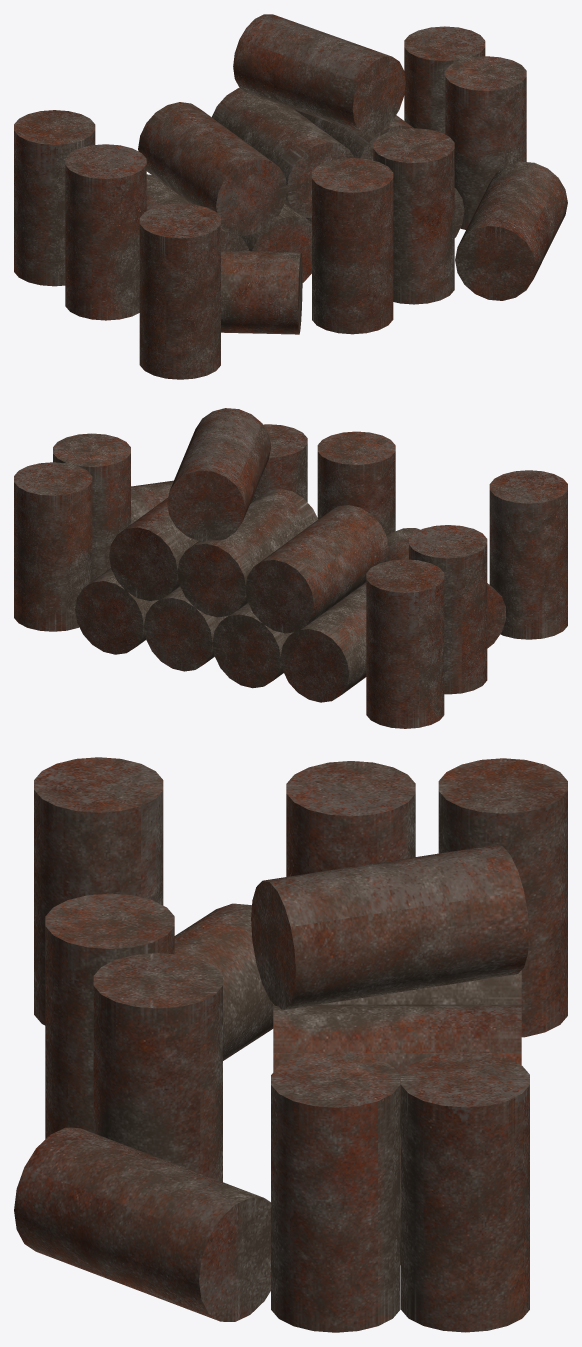
The model's file is Bidones1.obj.
The picture shows the model from 3 angles, top to bottom: view 1: azimuth 30°, elevation 25°; view 2: azimuth 150°, elevation 25°; view 3: azimuth 270°, elevation 25°; orthographic projection. The views are drawn at different scales.
Visible parts, largest first — view 1: bidon035, bidon04, bidon00, bidon05, bidon11, bidon01, bidon02, bidon034, bidon06, bidon08, bidon12, bidon03 (+3 smaller); view 2: bidon06, bidon03, bidon035, bidon11, bidon00, bidon05, bidon08, bidon17, bidon04, bidon034, bidon07, bidon14 (+5 smaller); view 3: bidon00, bidon034, bidon03, bidon02, bidon01, bidon06, bidon035, bidon04, bidon07, bidon05, bidon12, bidon08.
Part boxes in pixels (<box>): bidon035: <box>139,203,220,379</box>; bidon04: <box>312,158,393,334</box>; bidon00: <box>233,14,405,134</box>; bidon05: <box>65,144,146,320</box>; bidon11: <box>138,102,287,235</box>; bidon01: <box>373,128,454,304</box>; bidon02: <box>455,161,567,300</box>; bidon034: <box>445,56,526,229</box>; bidon06: <box>14,110,95,286</box>; bidon08: <box>212,88,354,218</box>; bidon12: <box>221,250,302,334</box>; bidon03: <box>404,26,485,134</box>; bidon06: <box>366,559,444,728</box>; bidon03: <box>14,462,92,631</box>; bidon035: <box>489,470,567,639</box>; bidon11: <box>245,505,388,633</box>; bidon00: <box>167,408,271,541</box>; bidon05: <box>409,525,487,694</box>; bidon08: <box>177,488,318,617</box>; bidon17: <box>280,582,366,702</box>; bidon04: <box>317,431,395,536</box>; bidon034: <box>53,433,130,581</box>; bidon07: <box>109,497,198,600</box>; bidon14: <box>75,568,158,654</box>; bidon00: <box>251,845,529,1009</box>; bidon034: <box>271,1052,400,1332</box>; bidon03: <box>400,1052,529,1332</box>; bidon02: <box>14,1127,270,1321</box>; bidon01: <box>93,953,222,1181</box>; bidon06: <box>438,758,567,1037</box>; bidon035: <box>34,757,163,1025</box>; bidon04: <box>45,893,174,1138</box>; bidon07: <box>273,1004,521,1134</box>; bidon05: <box>286,761,415,876</box>; bidon12: <box>174,903,273,1060</box>; bidon08: <box>273,970,521,1004</box>.
Bounding box in the file's own units: 24.52 × 10.79 × 16.26.
1 material, 1 textured.
